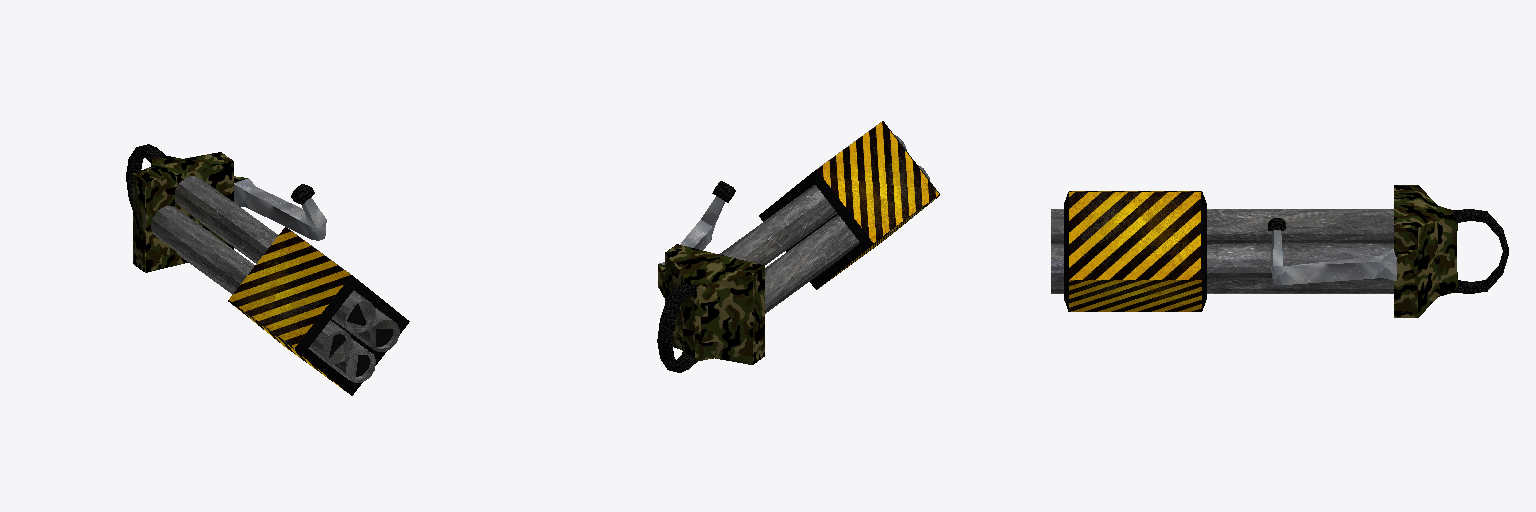
3 renders of one model, left to right at view 1: azimuth 30°, elevation 25°; view 2: azimuth 150°, elevation 25°; view 3: azimuth 270°, elevation 25°, orthographic.
Visible parts, largest first — view 1: Cylinder.001, Cylinder.000_Cylinder.004, Cube; view 2: Cube, Cylinder.000_Cylinder.004, Cylinder.001; view 3: Cylinder.000_Cylinder.004, Cylinder.001, Cube.
Boxes of the visible parts, box(x1,y1,x2,y2) form: Cylinder.001: box(145, 176, 399, 382); Cylinder.000_Cylinder.004: box(228, 226, 409, 395); Cube: box(126, 144, 326, 272); Cube: box(657, 181, 764, 372); Cylinder.000_Cylinder.004: box(759, 121, 939, 289); Cylinder.001: box(685, 135, 929, 313); Cylinder.000_Cylinder.004: box(1064, 191, 1206, 311); Cylinder.001: box(1051, 209, 1393, 293); Cube: box(1268, 185, 1508, 317).
Bounding box in the file's own units: 1.75 × 1.5 × 5.15.
3 materials, 1 textured.